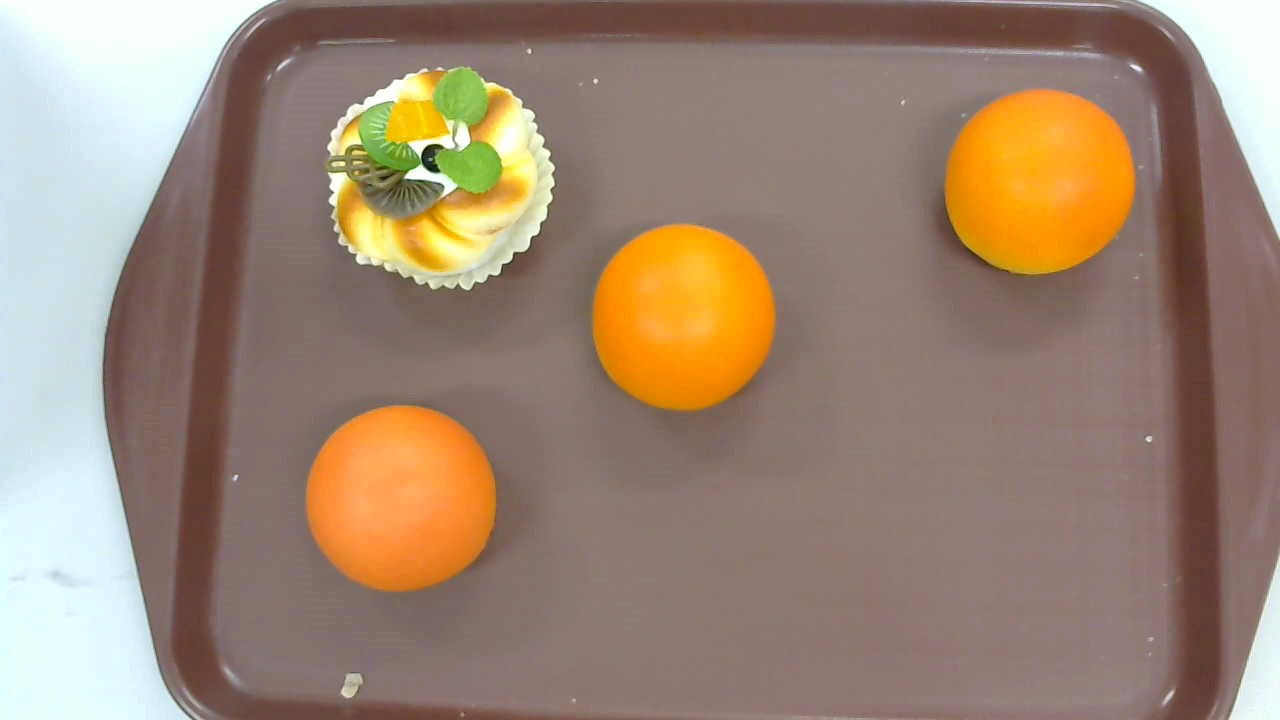bun: (305, 404, 497, 592), (945, 89, 1135, 277), (591, 222, 776, 410)
fruit tart: (326, 66, 559, 290)
